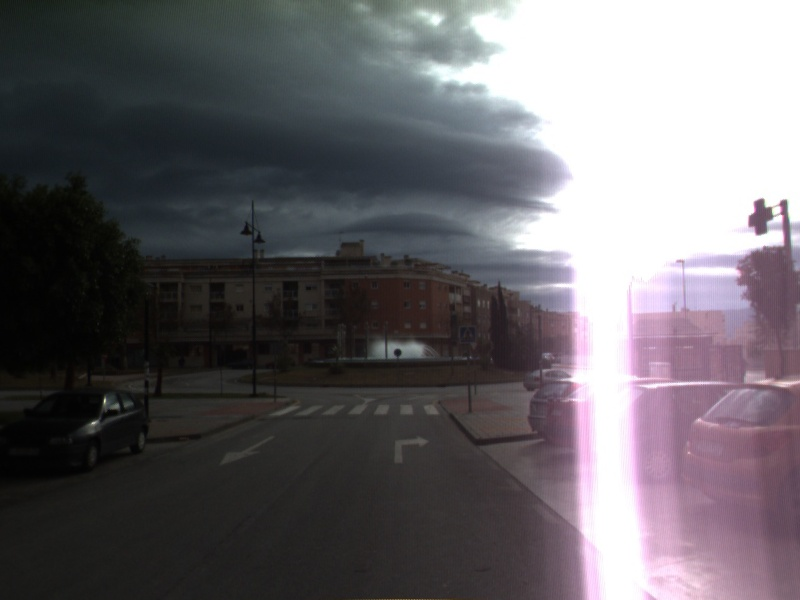RIGHT: (392, 433, 432, 465)
